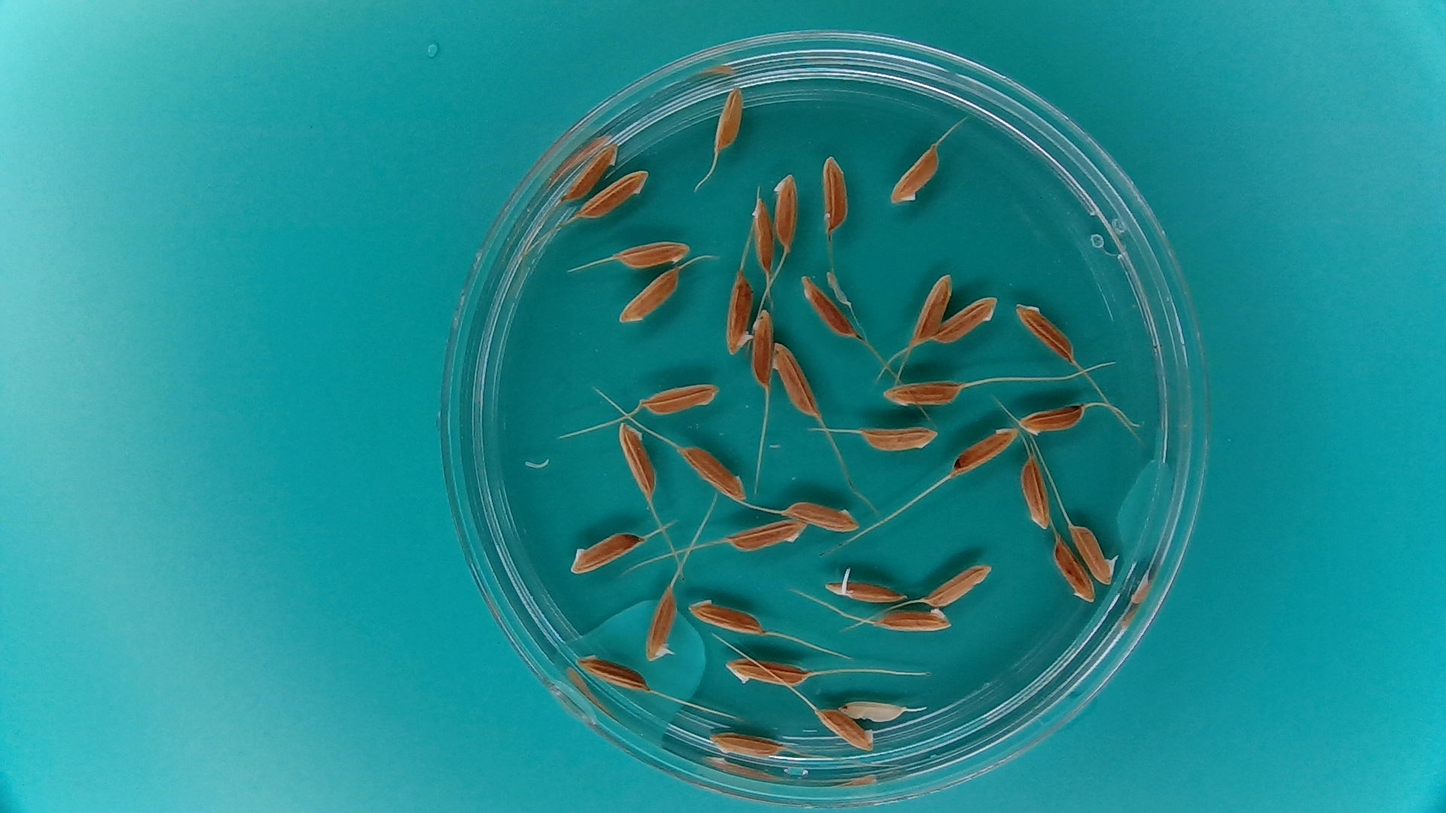no: (674, 443, 747, 503), (770, 340, 824, 421), (800, 274, 859, 342), (886, 139, 943, 209), (575, 167, 650, 220), (558, 139, 618, 204), (566, 528, 645, 577), (1014, 301, 1075, 362), (618, 266, 682, 324), (949, 424, 1019, 477), (717, 655, 813, 693), (685, 595, 769, 638), (908, 269, 954, 346), (615, 422, 658, 501), (932, 295, 999, 345), (717, 271, 755, 358), (921, 562, 993, 607), (814, 705, 879, 753), (575, 652, 651, 693), (609, 234, 693, 271), (1048, 538, 1095, 604), (639, 378, 716, 417), (817, 151, 852, 236), (727, 517, 805, 555), (880, 376, 966, 410), (709, 84, 749, 157), (1017, 455, 1054, 531), (782, 497, 860, 533), (770, 169, 802, 255), (857, 423, 941, 455), (876, 604, 955, 636), (1019, 403, 1088, 438), (708, 731, 786, 760), (748, 306, 775, 387), (749, 195, 778, 270), (838, 695, 909, 723)
yes: (1069, 522, 1119, 586), (642, 584, 681, 665), (820, 570, 905, 605)
